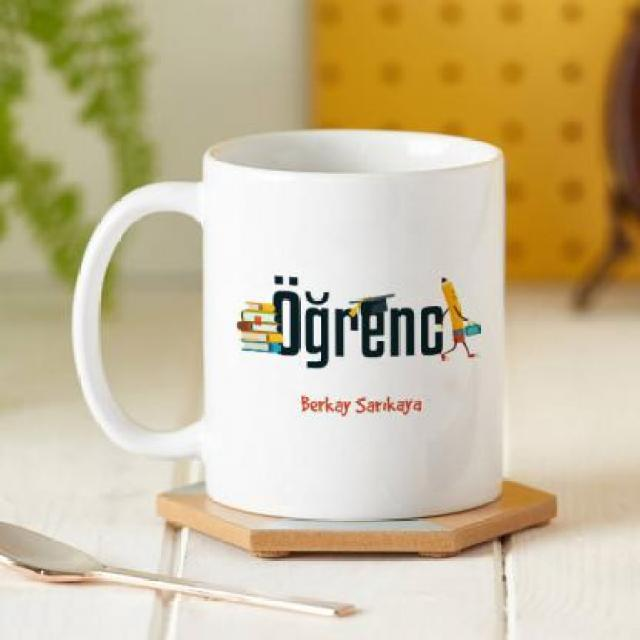taza: (70, 130, 508, 524)
